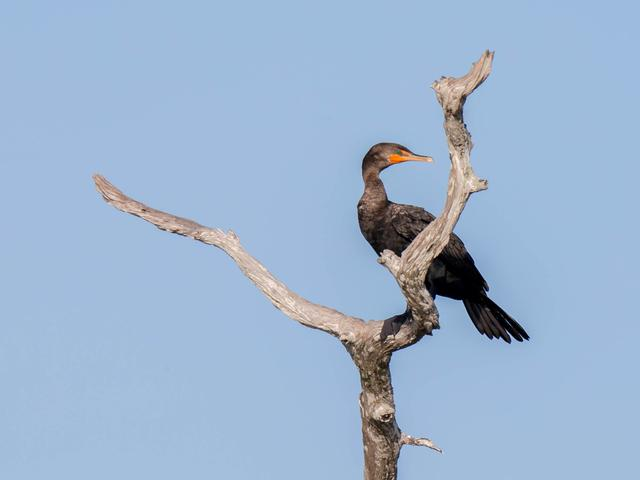bird: (344, 133, 540, 351)
